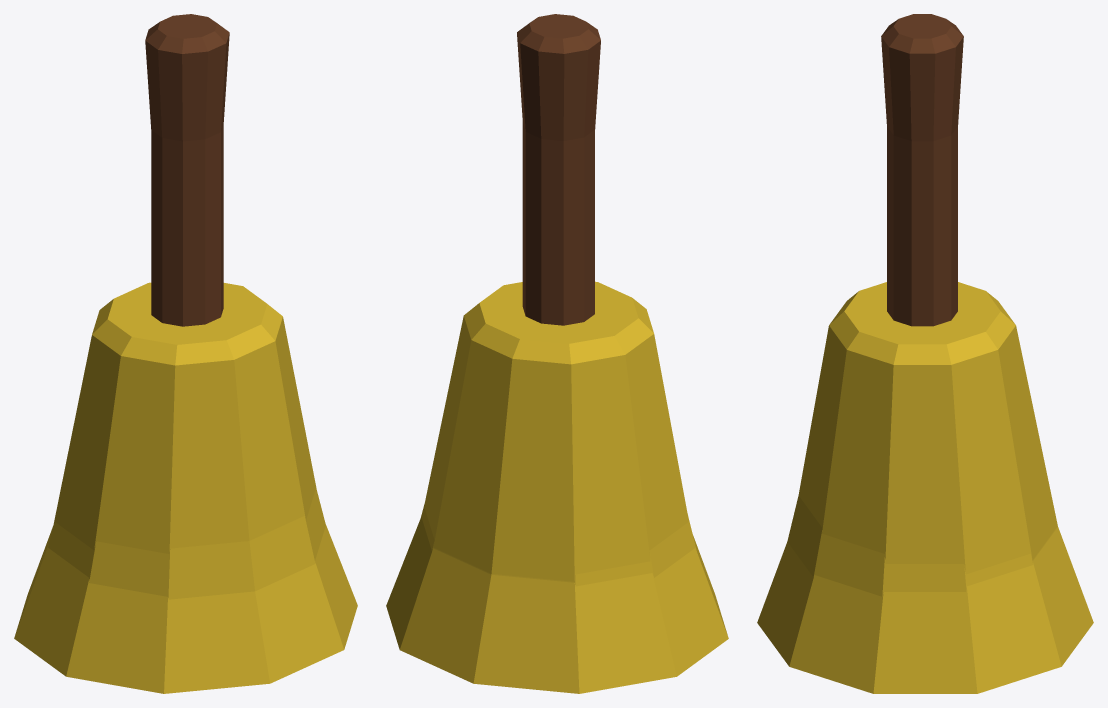
Rendered from bell01.gltf.
The picture shows the model from 3 angles, left to right: view 1: azimuth 30°, elevation 25°; view 2: azimuth 150°, elevation 25°; view 3: azimuth 270°, elevation 25°; orthographic projection.
Parts seen in each view (by area): view 1: Cylinder; view 2: Cylinder; view 3: Cylinder.
Part boxes in pixels (x1=…): Cylinder: x1=14, y1=14, x2=357, y2=693; Cylinder: x1=386, y1=14, x2=728, y2=693; Cylinder: x1=757, y1=14, x2=1093, y2=693.
Size of the model in its own units: 0.0758 by 0.1481 by 0.0758.
1 material, 1 textured.
